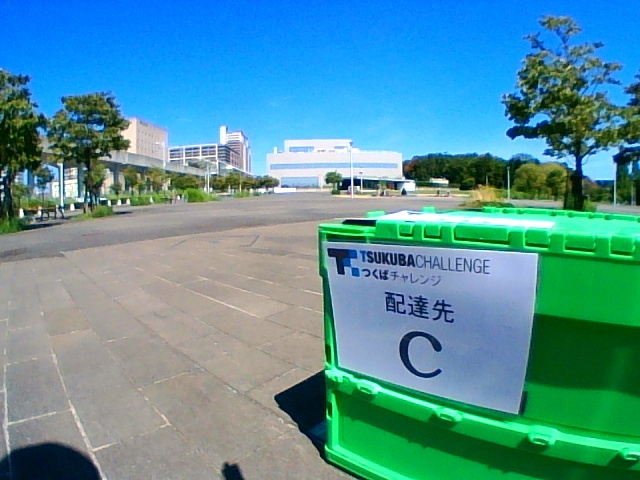green_box: (318, 206, 640, 480)
tag_c: (379, 261, 474, 380)
